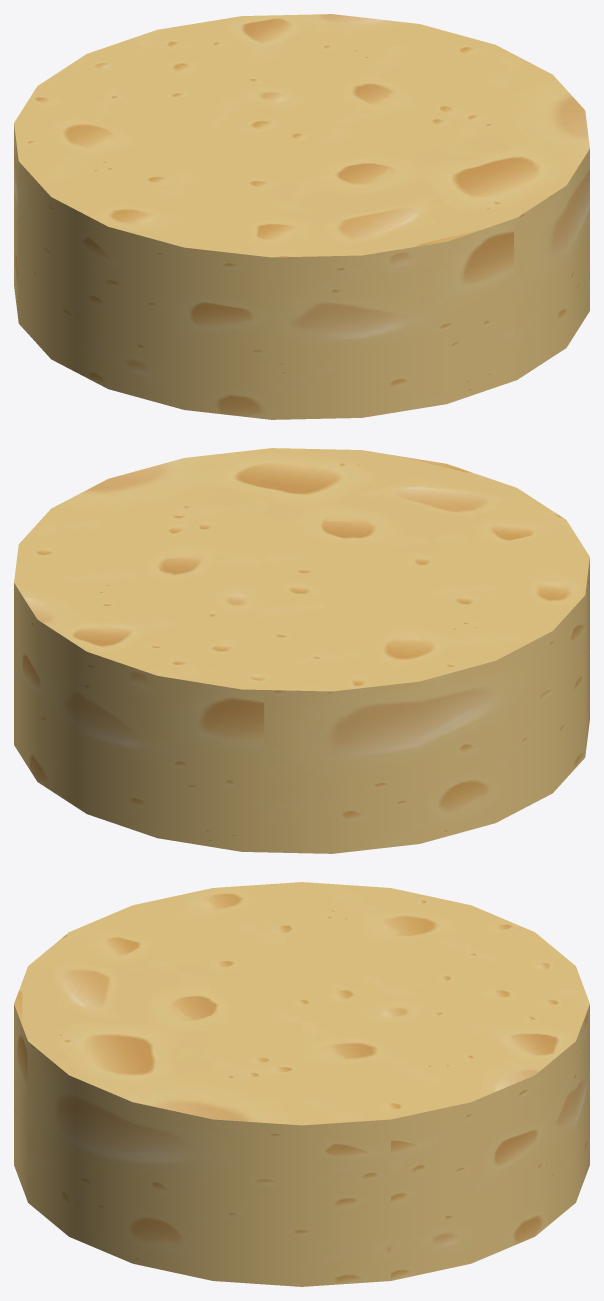
Rendered from Cheese.fbx.
3 renders of one model, top to bottom at view 1: azimuth 30°, elevation 25°; view 2: azimuth 150°, elevation 25°; view 3: azimuth 270°, elevation 25°, orthographic.
Parts seen in each view (by area): view 1: cheeseWheel; view 2: cheeseWheel; view 3: cheeseWheel.
Boxes of the visible parts, bbox=[...] form: cheeseWheel: bbox=[14, 14, 589, 419]; cheeseWheel: bbox=[14, 448, 589, 853]; cheeseWheel: bbox=[14, 882, 589, 1286].
Bounding box in the file's own units: 0.5818 × 0.18 × 0.5818.
